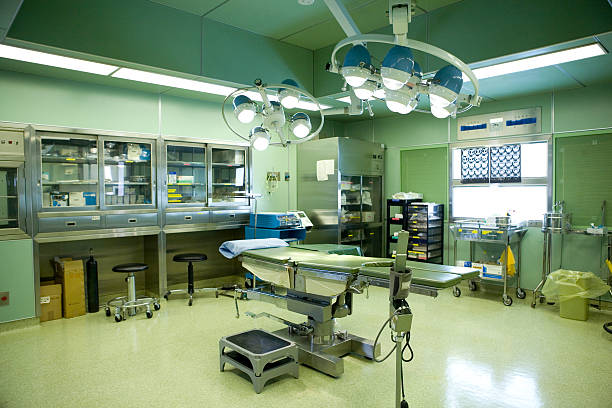cabinet: (23, 127, 257, 224), (300, 142, 381, 263), (1, 125, 44, 241)
chair: (100, 264, 160, 324), (165, 252, 221, 310)
electrosurgical_unit: (250, 211, 304, 230)
handle: (127, 217, 140, 224), (64, 220, 77, 227), (185, 217, 194, 221), (229, 214, 234, 217)
operating_bed: (224, 237, 481, 383)
surgical_light: (326, 29, 481, 122), (222, 79, 324, 147)
utility_cart: (448, 215, 528, 310), (534, 216, 609, 316), (383, 194, 445, 264)
waste_bin: (551, 262, 598, 329)
